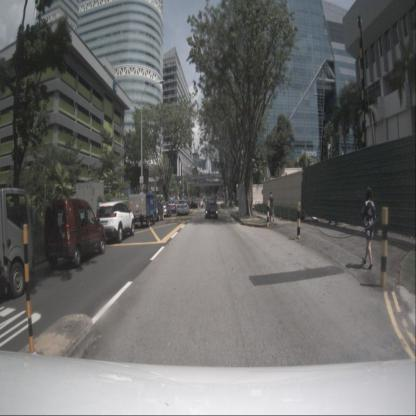human-pedestrian-adult: (362, 187, 376, 270), (269, 192, 275, 221)
vehicle-car: (44, 198, 106, 267), (94, 199, 135, 244), (150, 200, 164, 221), (206, 198, 218, 219), (177, 200, 190, 215), (159, 201, 171, 217), (167, 200, 178, 212), (190, 199, 197, 208)
vehicle-truck: (0, 186, 34, 299), (128, 193, 156, 227)
